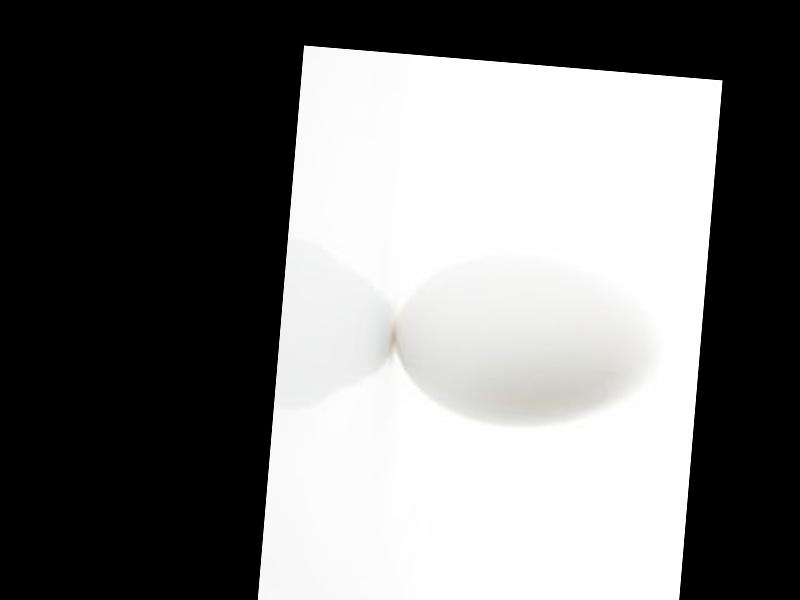Eggs: (387, 251, 664, 437)
